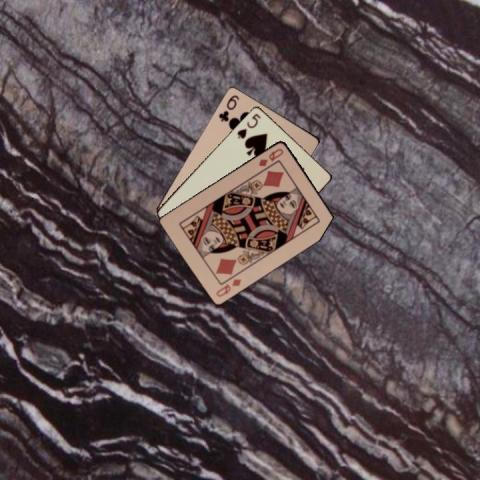5s: (234, 110, 262, 140)
6c: (215, 91, 241, 123)
Qd: (213, 275, 243, 298), (255, 146, 285, 168)
